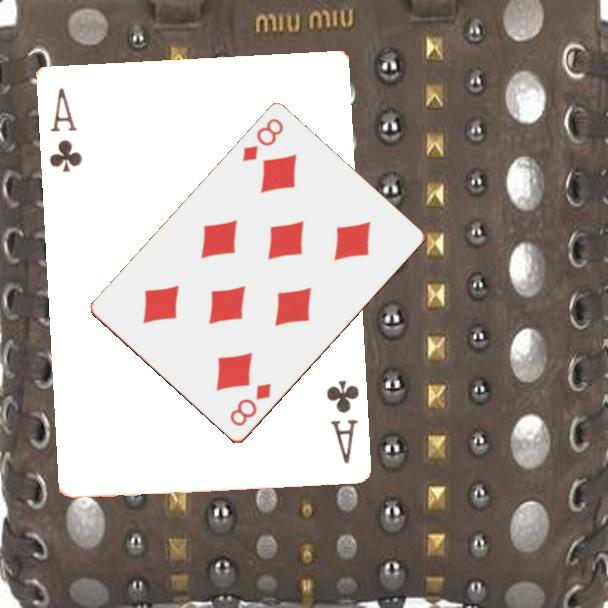c01: (46, 84, 85, 175), (322, 376, 361, 466)
d08: (226, 380, 274, 430), (239, 115, 287, 165)
